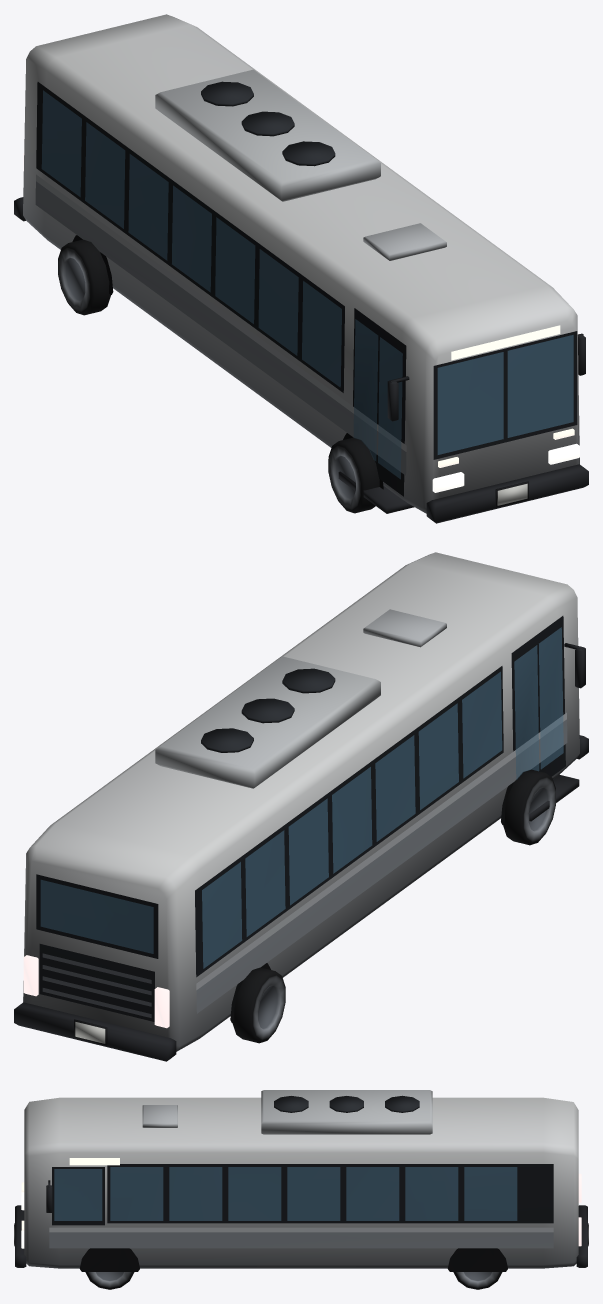
Rendered from bus_urbano.glb.
3 renders of one model, top to bottom at view 1: azimuth 30°, elevation 25°; view 2: azimuth 150°, elevation 25°; view 3: azimuth 270°, elevation 25°, orthographic. The views are drawn at different scales.
Parts seen in each view (by area): view 1: bus_urbano; view 2: bus_urbano; view 3: bus_urbano.
Boxes of the visible parts, x1,y1,x2,y2 form: bus_urbano: [14, 14, 588, 523]; bus_urbano: [14, 552, 588, 1061]; bus_urbano: [14, 1090, 588, 1289].
Size of the model in its own units: 3.03 by 3.53 by 11.41.
